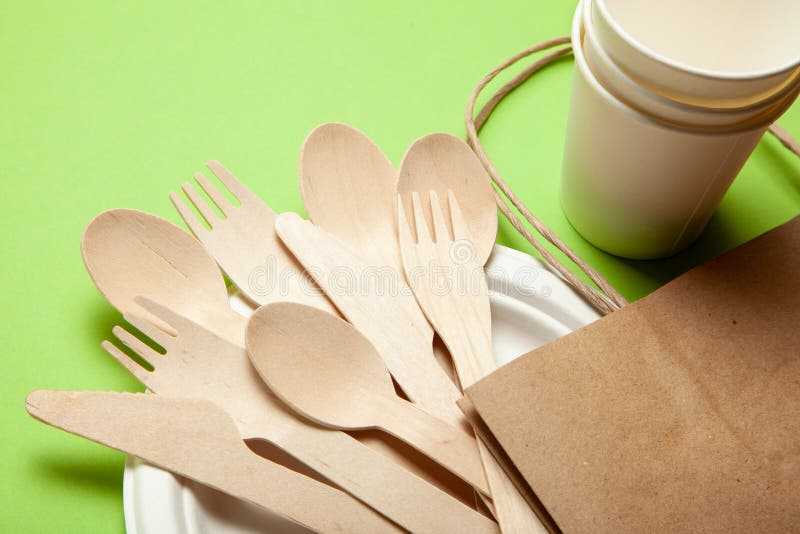Wooden Utensils: (56, 119, 531, 529)
